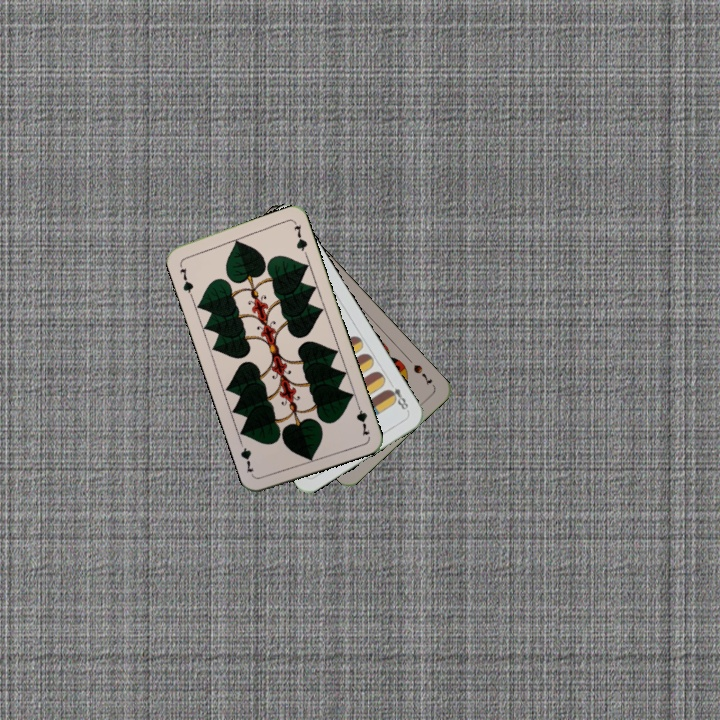E8: (383, 377, 411, 414)
G7: (175, 259, 196, 299), (352, 398, 372, 438)
S7: (409, 360, 435, 388)
